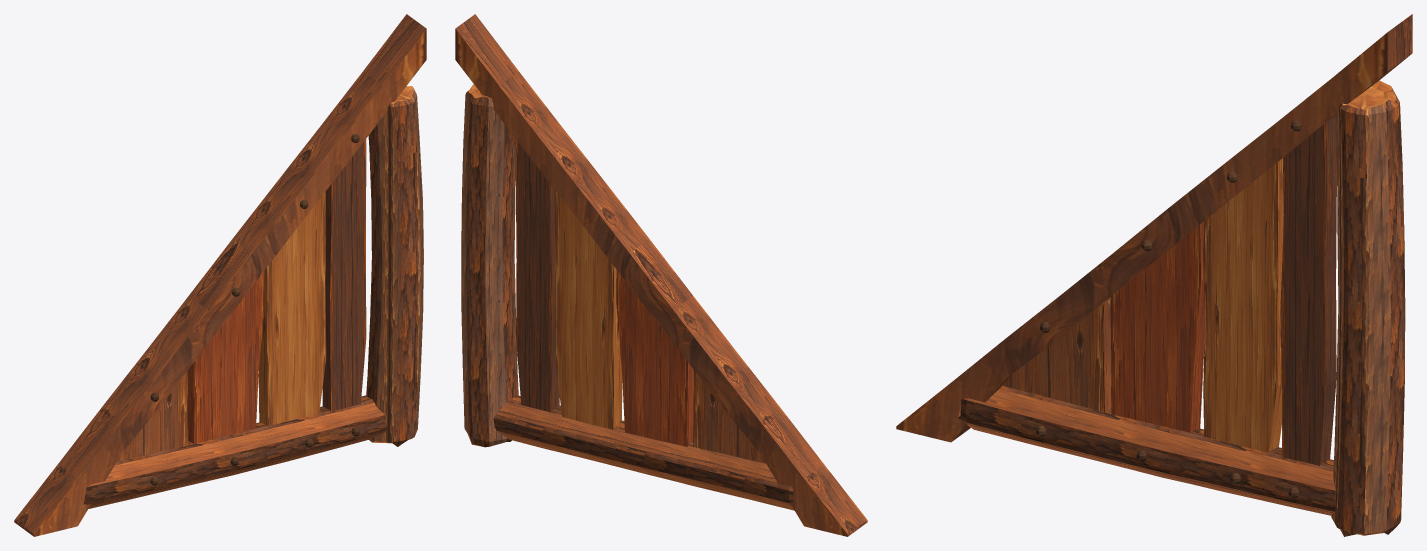
Rendered from gable_45__plank_root.glb.
The picture shows the model from 3 angles, left to right: view 1: azimuth 30°, elevation 25°; view 2: azimuth 150°, elevation 25°; view 3: azimuth 330°, elevation 25°; orthographic projection. The views are drawn at different scales.
Visible parts, largest first — view 1: model; view 2: model; view 3: model.
Part boxes in pixels (left/top/right/bottom): model: left=14, top=14, right=426, bottom=536; model: left=455, top=14, right=867, bottom=536; model: left=896, top=14, right=1412, bottom=536.
Bounding box in the file's own units: 1.95 × 1.95 × 0.247.
12 materials, 12 textured.
